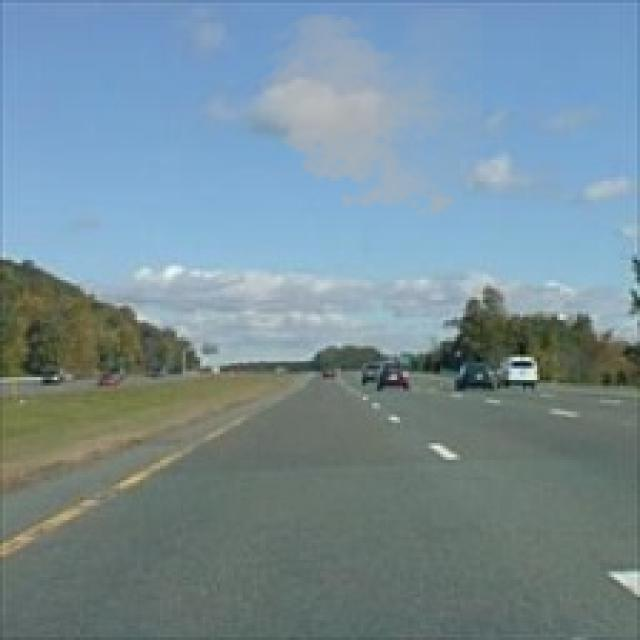smoke: (251, 6, 483, 223)
